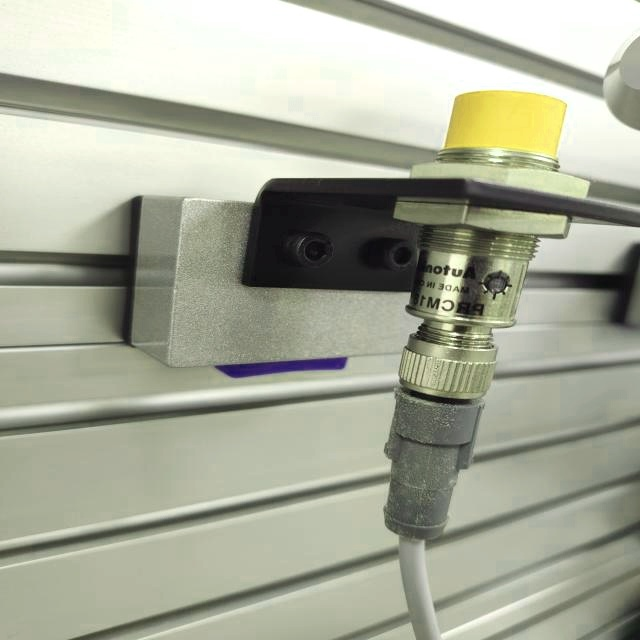inductive sensor: (119, 85, 609, 559)
